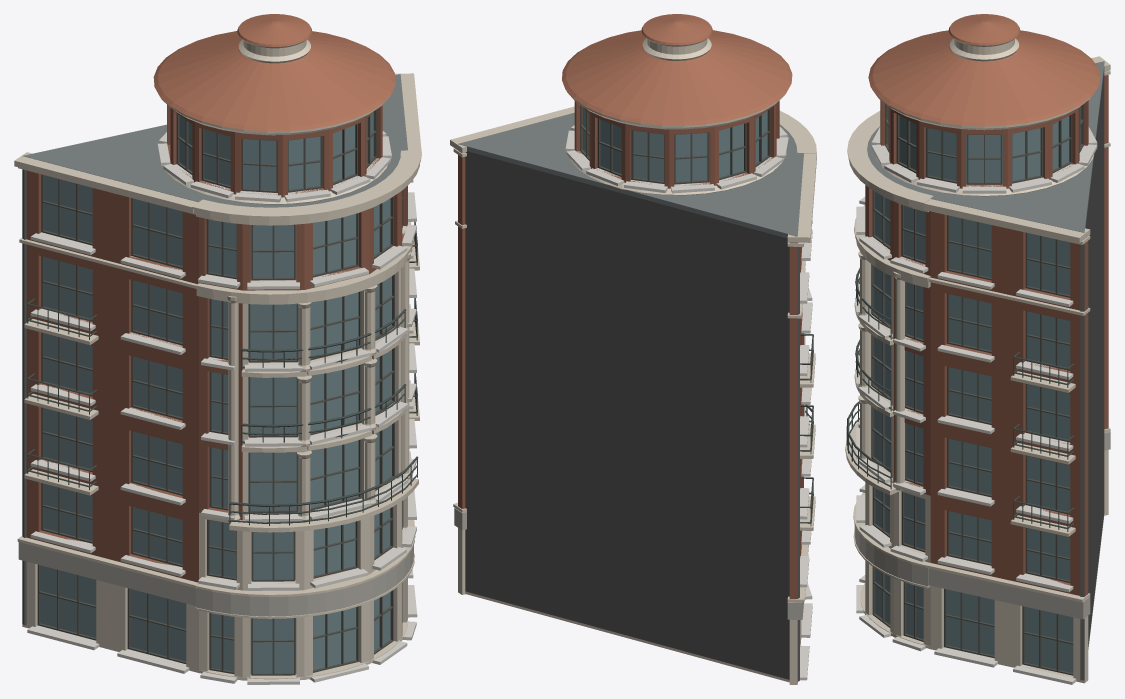
The model's file is huangpu-young-apartments-lod.glb.
3 renders of one model, left to right at view 1: azimuth 30°, elevation 25°; view 2: azimuth 150°, elevation 25°; view 3: azimuth 270°, elevation 25°, orthographic. The views are drawn at different scales.
Visible parts, largest first — view 1: 永业大楼（杨氏公寓）淮海中路、雁荡路圆角; view 2: 永业大楼（杨氏公寓）淮海中路、雁荡路圆角; view 3: 永业大楼（杨氏公寓）淮海中路、雁荡路圆角.
Part boxes in pixels (box(x1,y1,x2,y2)): 永业大楼（杨氏公寓）淮海中路、雁荡路圆角: box(14, 14, 421, 684); 永业大楼（杨氏公寓）淮海中路、雁荡路圆角: box(450, 14, 816, 684); 永业大楼（杨氏公寓）淮海中路、雁荡路圆角: box(845, 14, 1110, 684).
Bounding box in the file's own units: 18.93 × 28.1 × 11.66.
